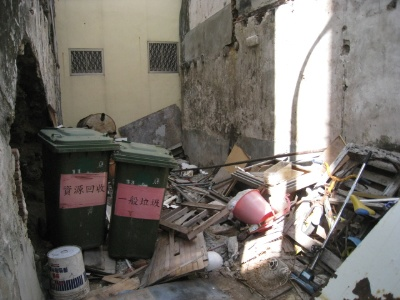bucket: (37, 124, 119, 249), (106, 141, 176, 261), (43, 242, 94, 299), (233, 188, 277, 231)
